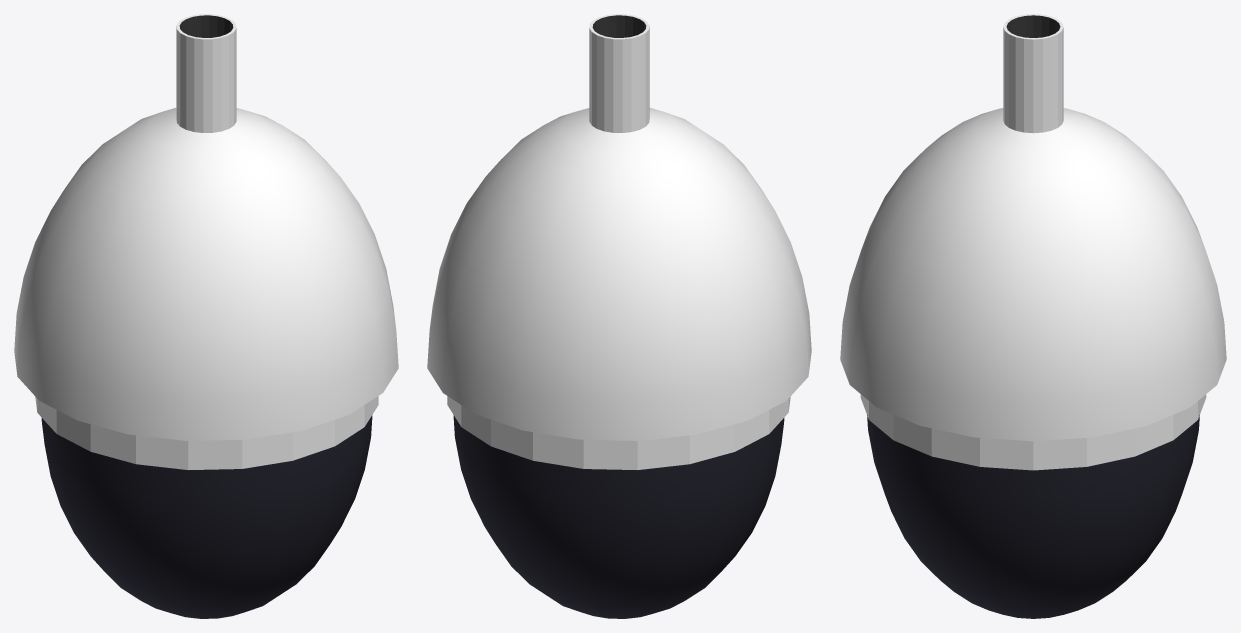
File: cctv.glb
The picture shows the model from 3 angles, left to right: view 1: azimuth 30°, elevation 25°; view 2: azimuth 150°, elevation 25°; view 3: azimuth 270°, elevation 25°; orthographic projection.
Visible parts, largest first — view 1: STREETLIGHT_CCTV; view 2: STREETLIGHT_CCTV; view 3: STREETLIGHT_CCTV.
Part boxes in pixels (x1,y1,x2,y2): STREETLIGHT_CCTV: (14, 14, 398, 618); STREETLIGHT_CCTV: (427, 14, 811, 618); STREETLIGHT_CCTV: (840, 14, 1226, 618).
Size of the model in its own units: 1.54 by 2.56 by 1.54.
1 material, 1 textured.
